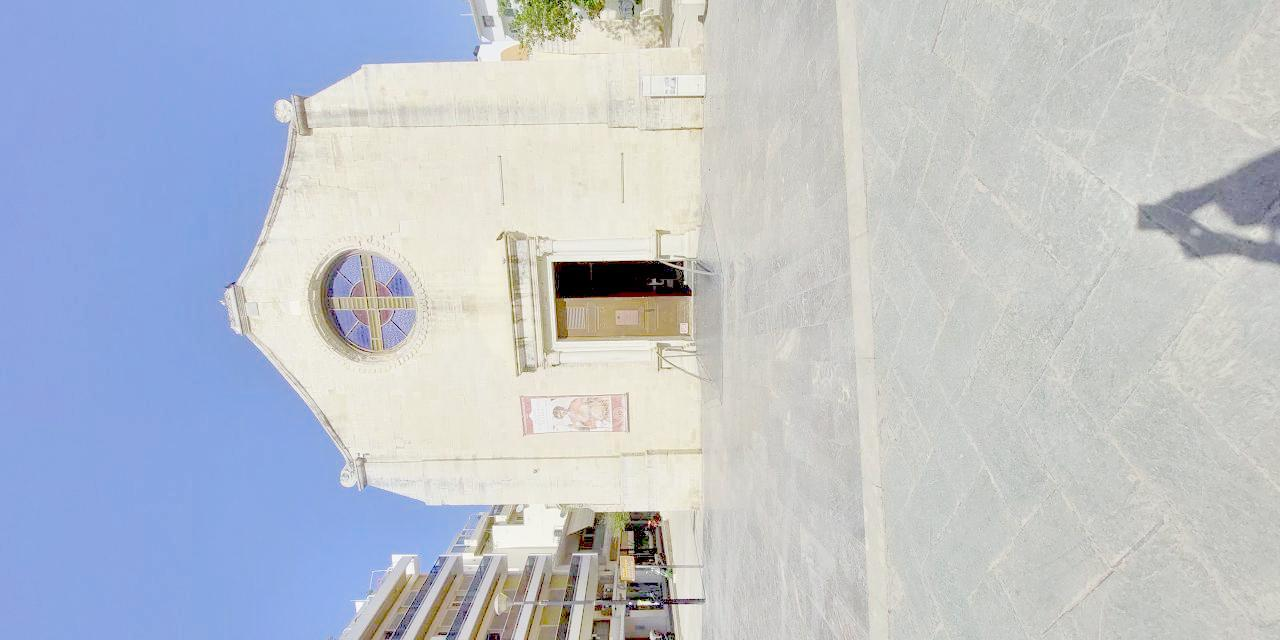Agia Aikaterini: (213, 52, 703, 512)
